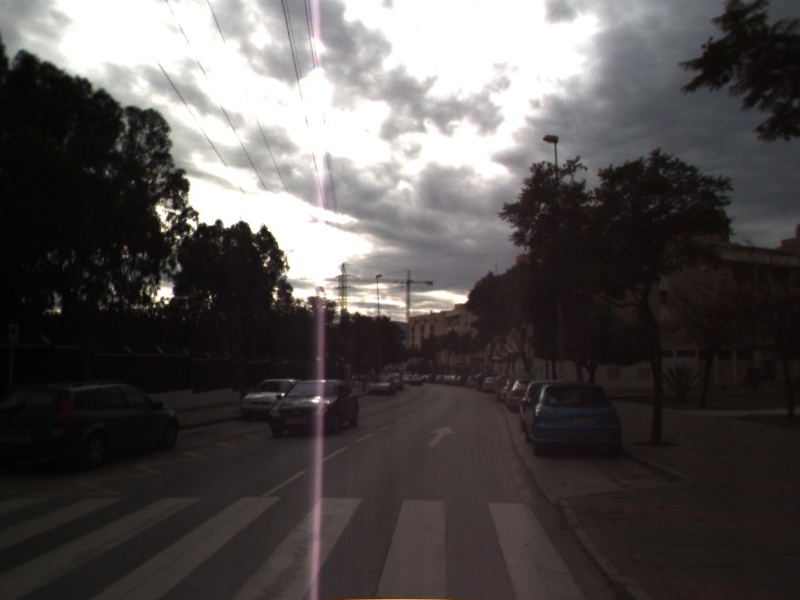STRAIGHT: (425, 423, 458, 449)
